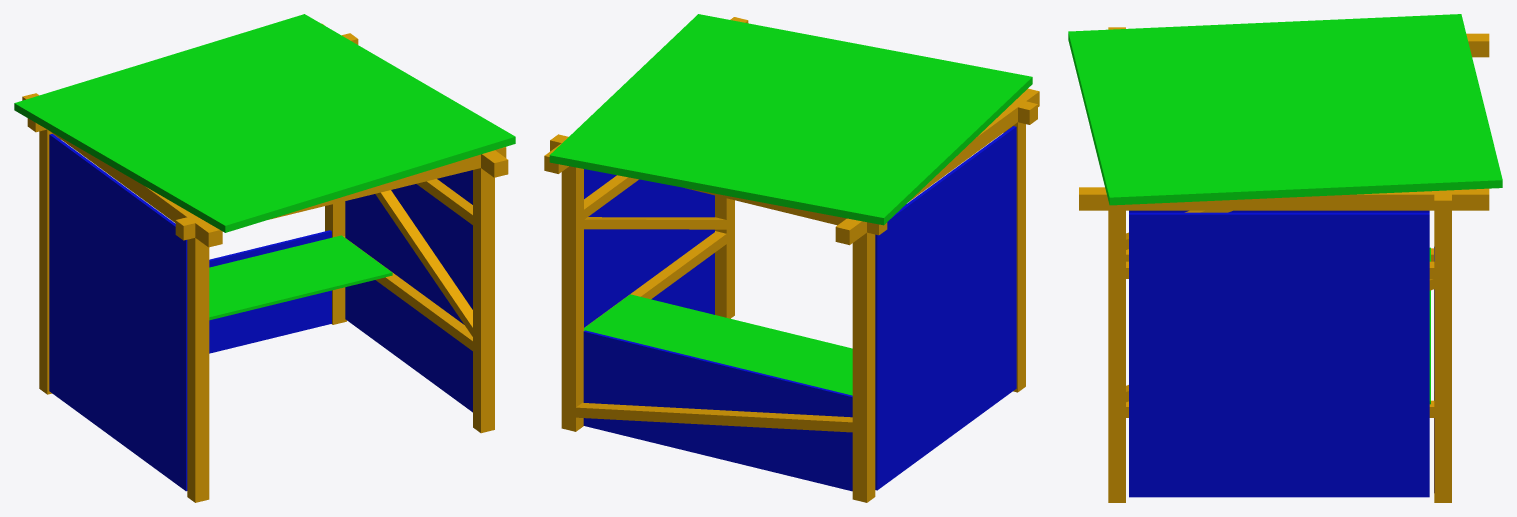
Rendered from Shop.fbx.
The picture shows the model from 3 angles, left to right: view 1: azimuth 30°, elevation 25°; view 2: azimuth 150°, elevation 25°; view 3: azimuth 270°, elevation 25°; orthographic projection. The views are drawn at different scales.
Visible parts, largest first — view 1: Лавка продавца; view 2: Лавка продавца; view 3: Лавка продавца.
Part boxes in pixels (x1,y1,x2,y2): Лавка продавца: [14, 14, 515, 502]; Лавка продавца: [544, 14, 1039, 502]; Лавка продавца: [1068, 14, 1502, 502].
Size of the model in its own units: 5.76 by 4.63 by 5.76.
